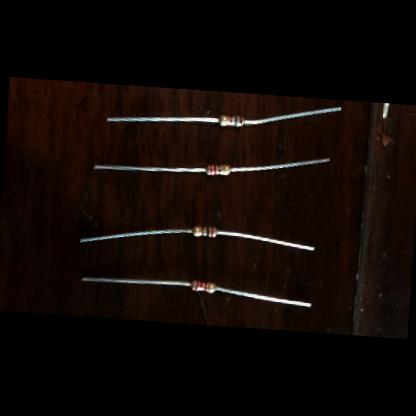resistor: (205, 162, 230, 176), (218, 115, 244, 128), (192, 226, 217, 238), (190, 282, 215, 292)
wire: (80, 221, 192, 250), (243, 100, 340, 131), (230, 152, 328, 178), (214, 286, 310, 308), (107, 110, 218, 129), (216, 231, 314, 252), (93, 160, 204, 178), (81, 274, 190, 288)
